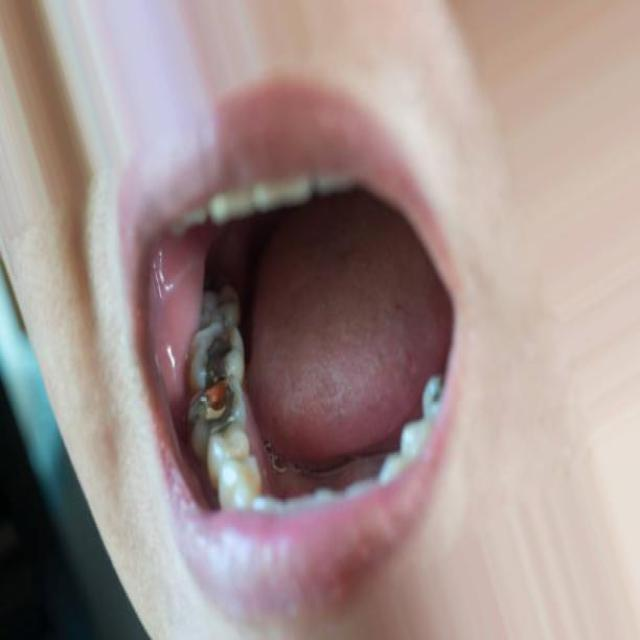caries: (186, 382, 249, 453), (189, 316, 242, 387)
